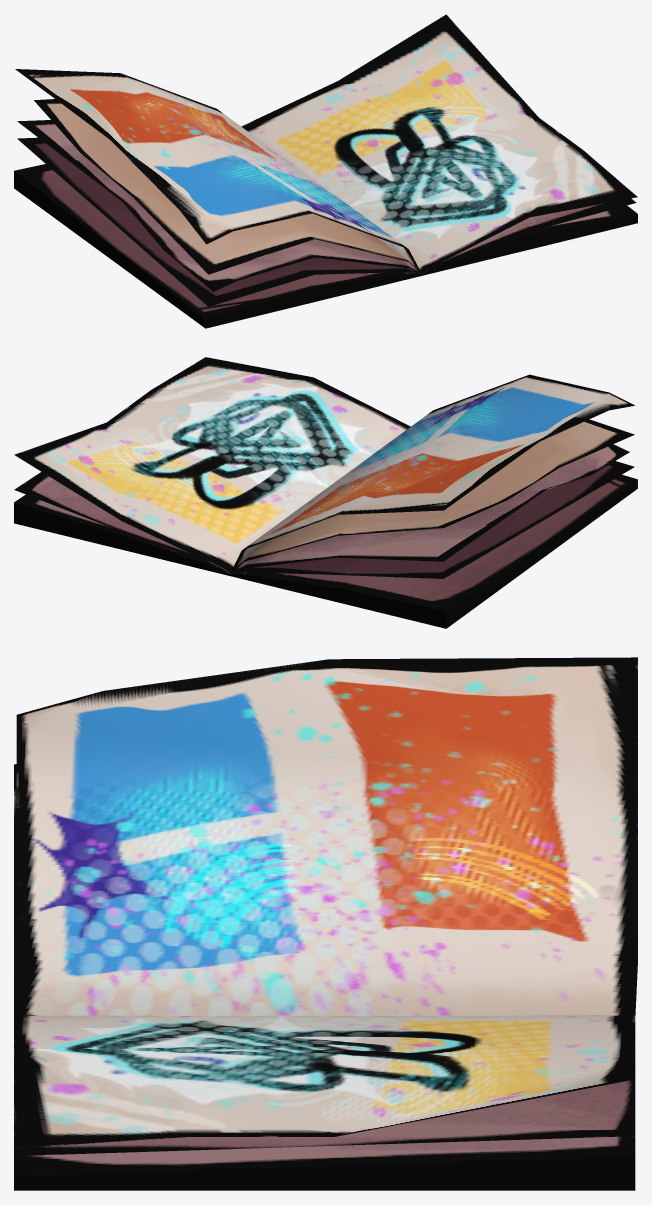
Rendered from comic_teleporter.glb.
3 renders of one model, top to bottom at view 1: azimuth 30°, elevation 25°; view 2: azimuth 150°, elevation 25°; view 3: azimuth 270°, elevation 25°, orthographic. The views are drawn at different scales.
Visible parts, largest first — view 1: Plane, Plane.003, Cube, Plane.002, Plane.001; view 2: Plane, Plane.003, Cube, Plane.001, Plane.002; view 3: Plane.003, Plane, Cube, Plane.001.
Boxes of the visible parts, x1,y1,x2,y2 form: Plane: (17, 14, 637, 291); Plane.003: (15, 69, 421, 272); Cube: (14, 164, 637, 328); Plane.002: (34, 99, 420, 274); Plane.001: (17, 137, 636, 306); Plane: (14, 357, 629, 573); Plane.003: (230, 374, 634, 572); Cube: (14, 474, 637, 628); Plane.001: (14, 461, 634, 578); Plane.002: (230, 419, 634, 573); Plane.003: (14, 657, 637, 1015); Plane: (14, 1015, 635, 1148); Cube: (14, 1136, 635, 1190); Plane.001: (14, 1079, 635, 1155).
Size of the model in its own units: 4.68 by 1.23 by 3.6.
1 material, 1 textured.
